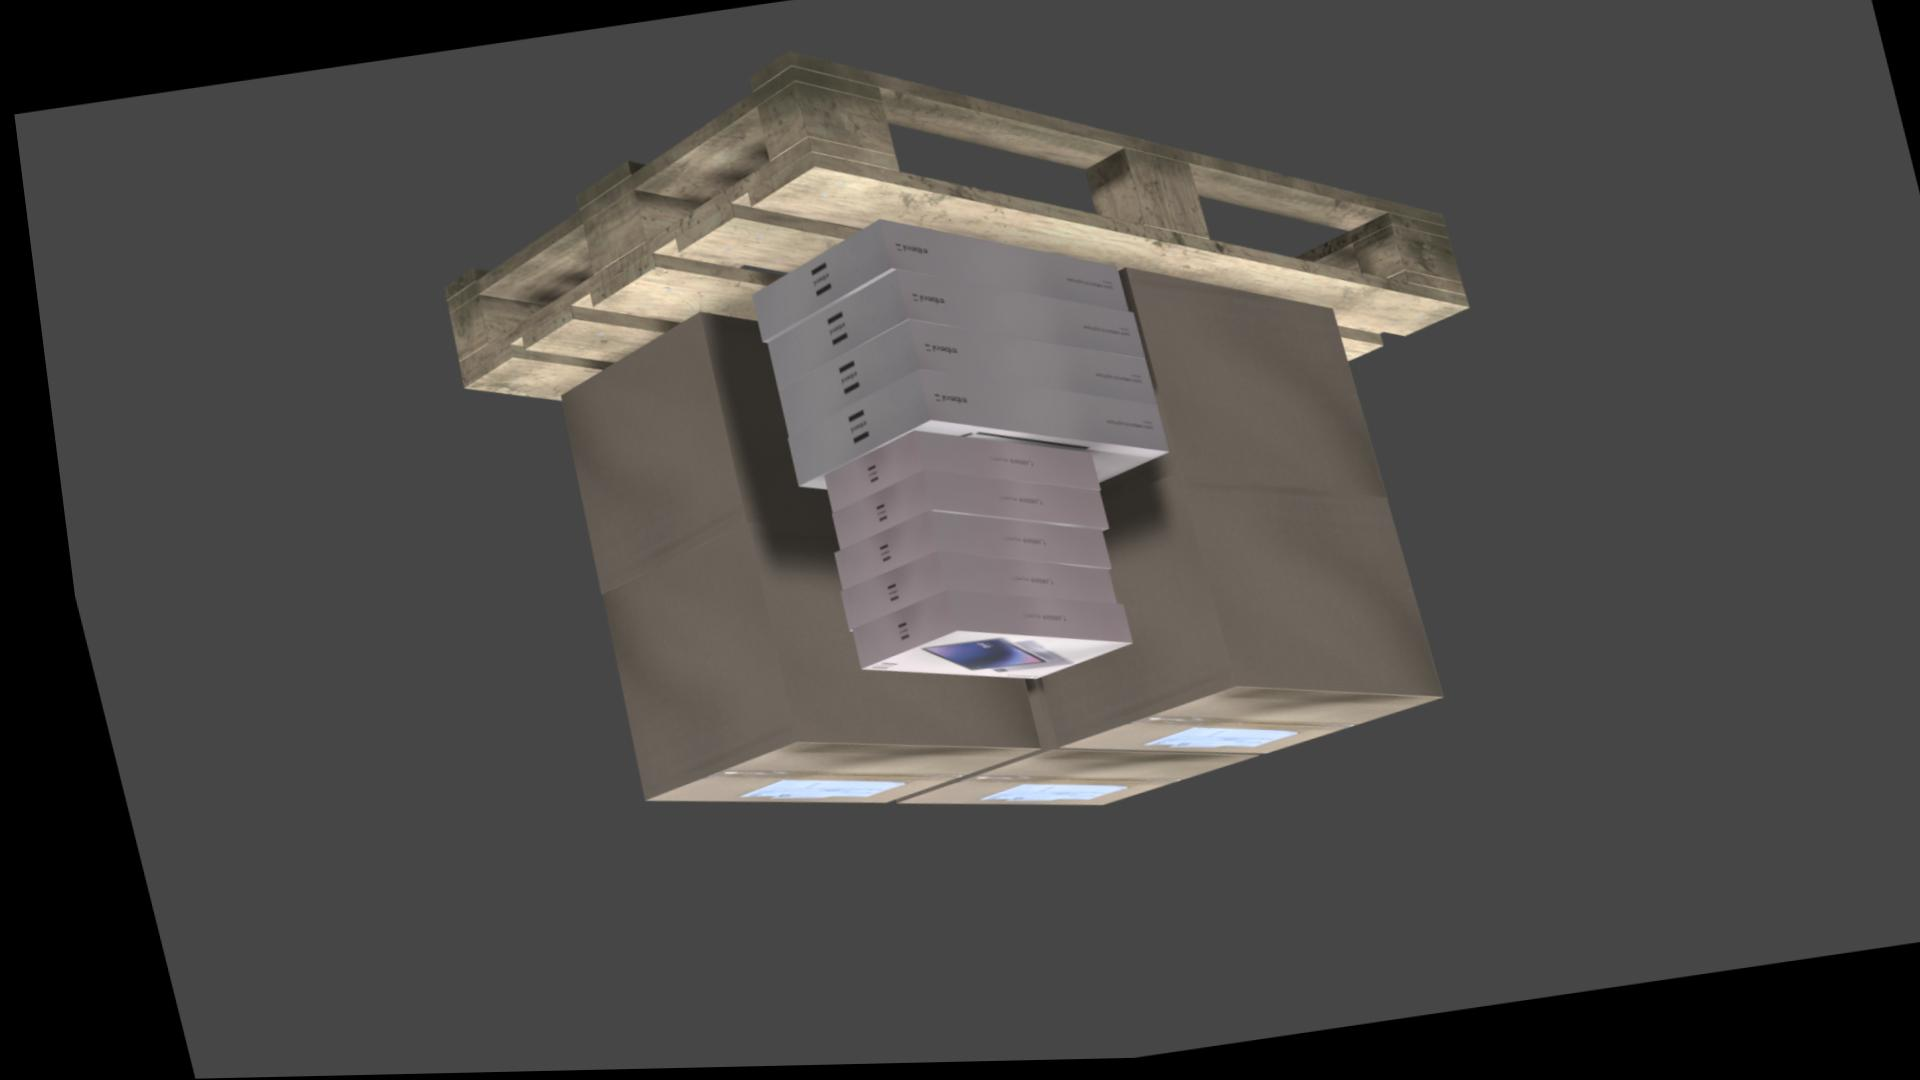group_box_left: (585, 525, 1021, 802), (1022, 477, 1424, 753), (550, 315, 819, 595), (1087, 272, 1371, 505)
group_box_top: (1039, 691, 1422, 758), (624, 744, 1018, 807), (876, 754, 1237, 810)
laptop_left: (742, 223, 1120, 345), (757, 273, 1135, 393), (766, 323, 1146, 439), (775, 373, 1154, 488)
laptop_top: (785, 423, 1156, 492)
palet: (434, 53, 1461, 404)
tablet_left: (811, 434, 1087, 516), (818, 473, 1095, 553), (823, 555, 1100, 633), (818, 514, 1095, 592), (836, 595, 1114, 671)
tablet_top: (843, 634, 1114, 683)
